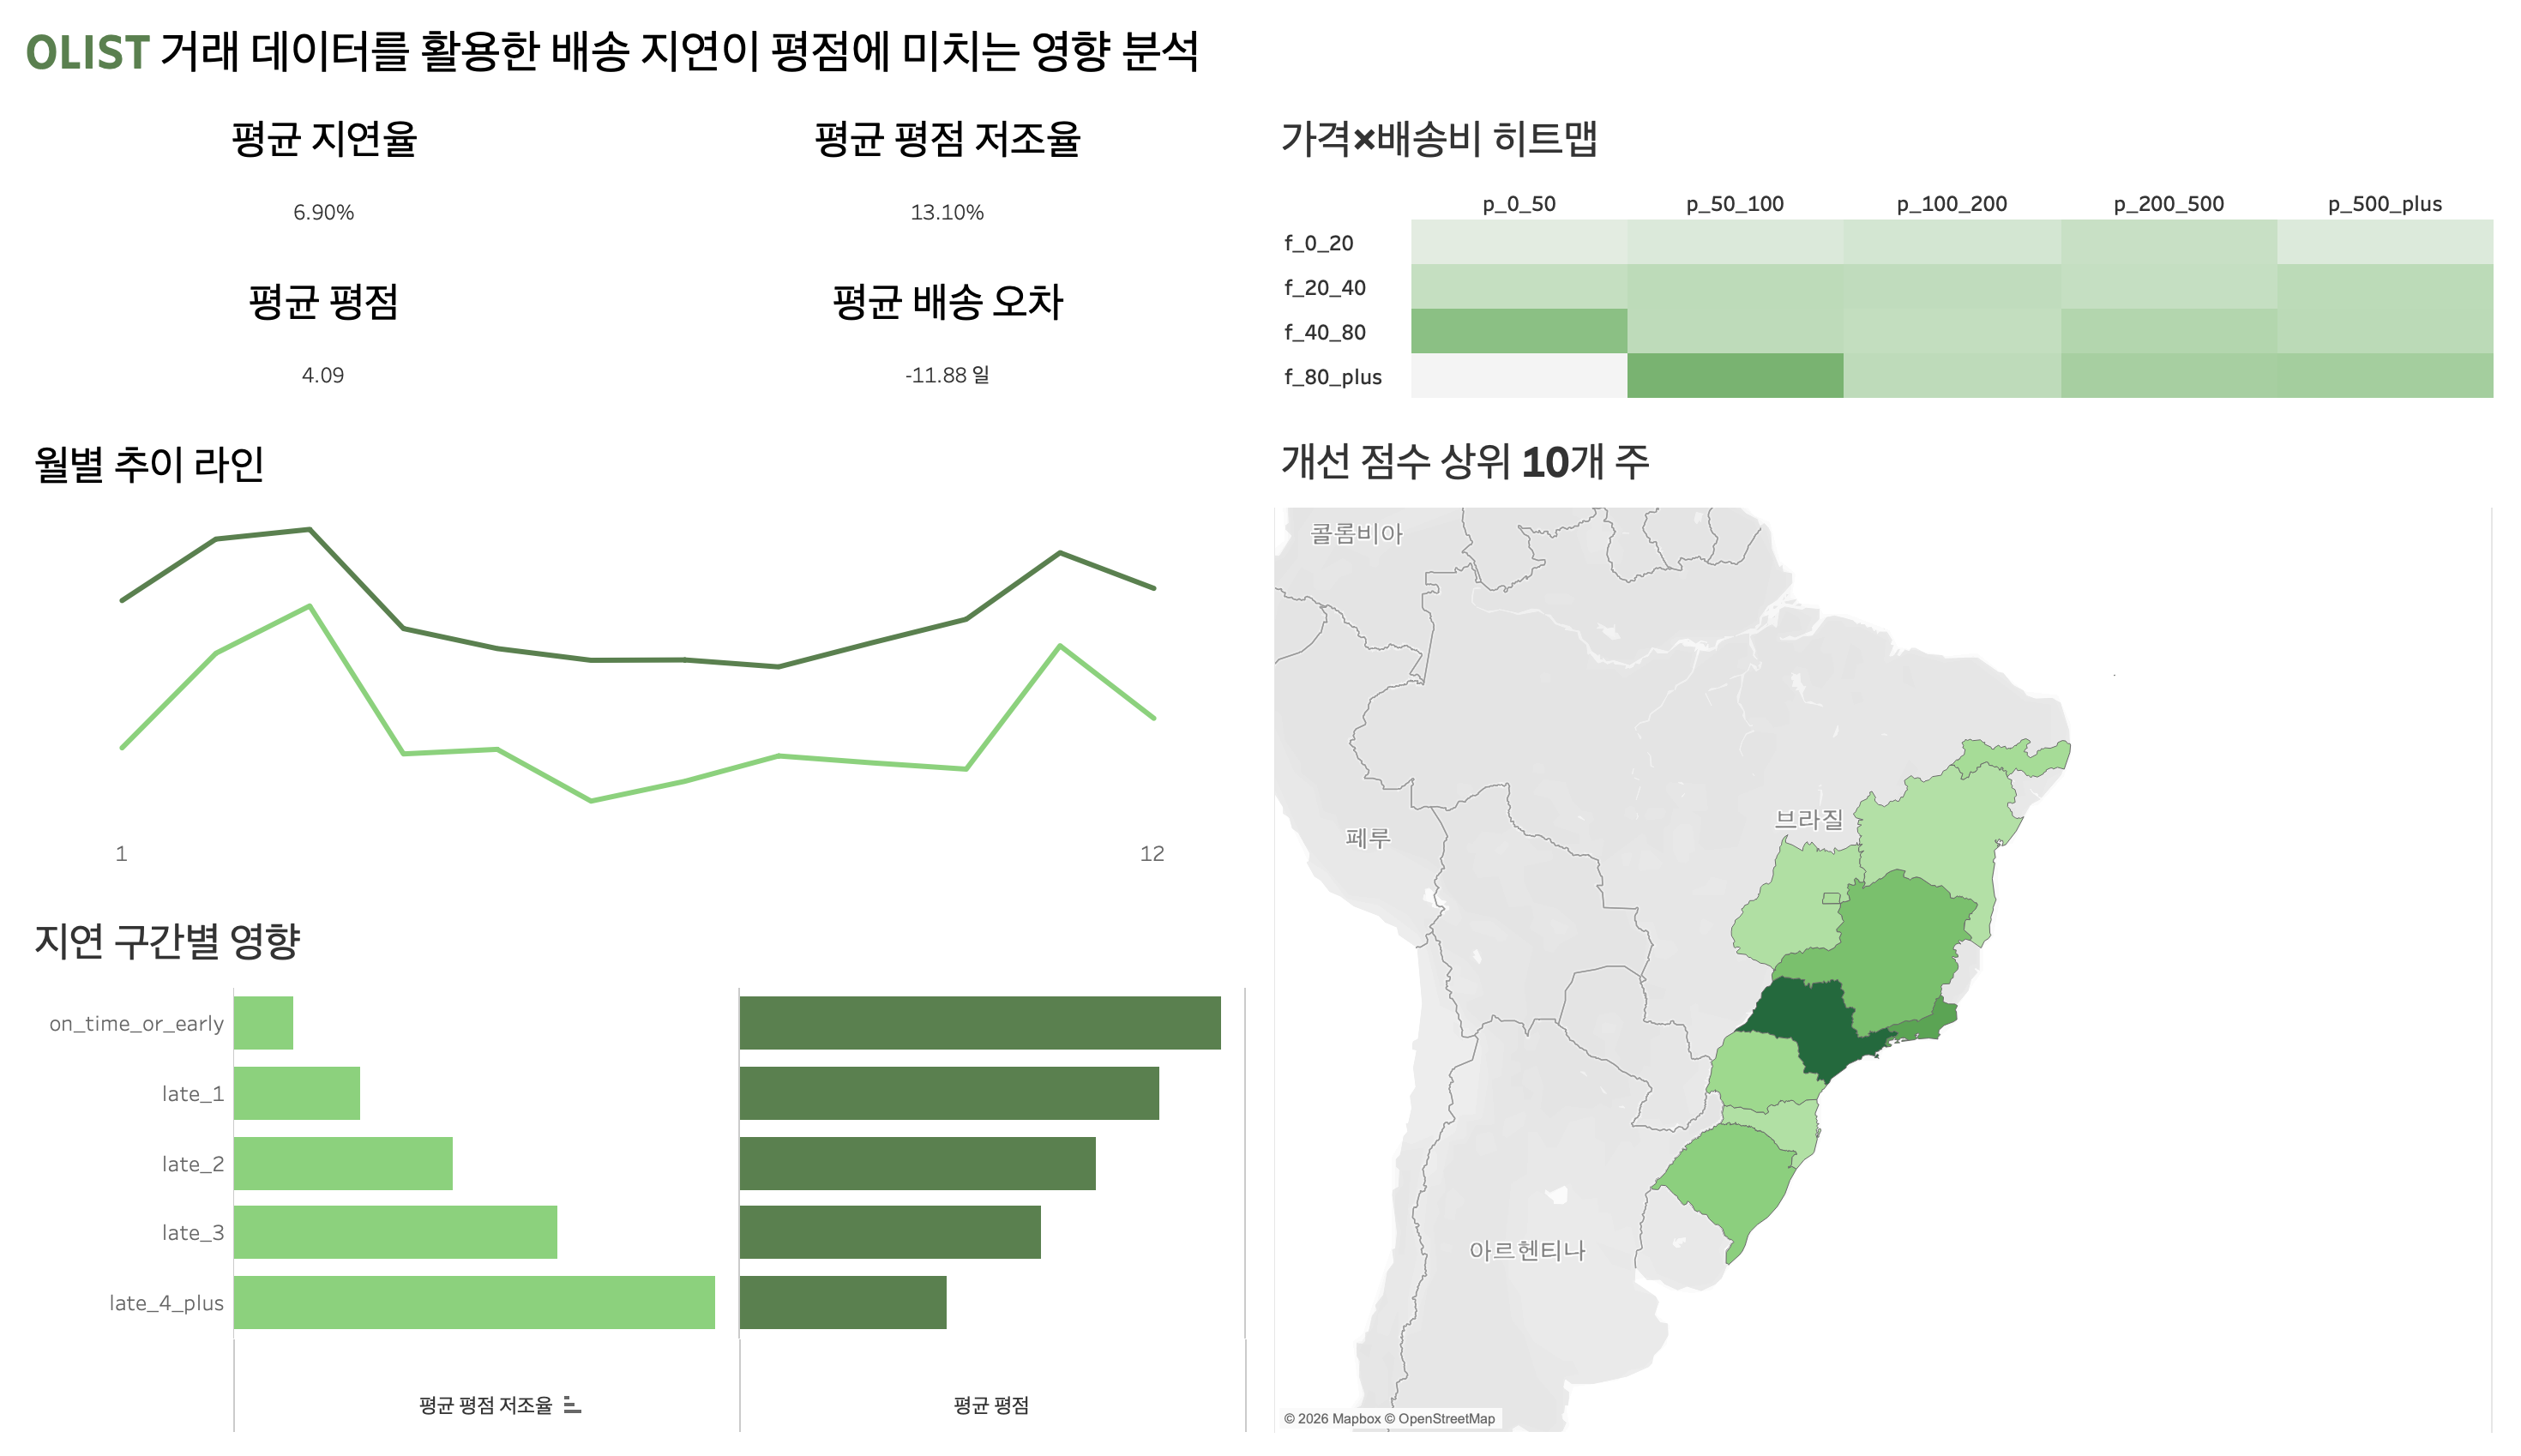

Layout of this report page (visuals, bound fields, positions):
{"tool":"tableau","page":{"name":"분석 대시보드","canvas":[1000,1000],"units":"permille","ordinal":0},"visuals":[{"type":"text","box":[6.4,11.8,987.3,53]},{"type":"worksheet","title":"평균 지연율","mark":"Automatic","box":[6.4,64.7,246.8,110.4]},{"type":"worksheet","title":"평균 평점 저조율","mark":"Automatic","box":[253.1,64.7,246.9,110.4]},{"type":"worksheet","title":"가격×배송비 히트맵","mark":"Square","rows":["freight_band"],"cols":["price_band"],"box":[500,64.7,493.7,276.9]},{"type":"worksheet","title":"평균 평점","mark":"Automatic","box":[6.4,175.2,246.8,110.5]},{"type":"worksheet","title":"평균 배송 오차","mark":"Automatic","box":[253.1,175.2,246.9,110.5]},{"type":"worksheet","title":"월별 추이 라인","mark":"Automatic","rows":["Calculation_0878061057150985","Calculation_0878061057126408"],"cols":["purchase_month"],"box":[6.4,285.7,493.7,324.9]},{"type":"worksheet","title":"개선 점수 상위 10개 주","mark":"Automatic","box":[500,341.6,493.7,646.6]},{"type":"worksheet","title":"지연 구간별 영향","mark":"Automatic","rows":["slip_bin"],"cols":["Calculation_0878061044965380","review_score_avg"],"box":[6.4,610.5,493.7,377.7]}]}

Visuals, with their boxes on the dashboard's canvas, which has no fixed pixel size, in thousandths of its width and height (x1, y1, x2, y2). These are canvas units, not pixel positions in the 2521x1456 screenshot, which may show the page scaled, cropped or inside an application window:
text: [6, 12, 994, 65]
"평균 지연율" worksheet: [6, 65, 253, 175]
"평균 평점 저조율" worksheet: [253, 65, 500, 175]
"가격×배송비 히트맵" worksheet (Square marks): [500, 65, 994, 342]
"평균 평점" worksheet: [6, 175, 253, 286]
"평균 배송 오차" worksheet: [253, 175, 500, 286]
"월별 추이 라인" worksheet: [6, 286, 500, 611]
"개선 점수 상위 10개 주" worksheet: [500, 342, 994, 988]
"지연 구간별 영향" worksheet: [6, 610, 500, 988]
